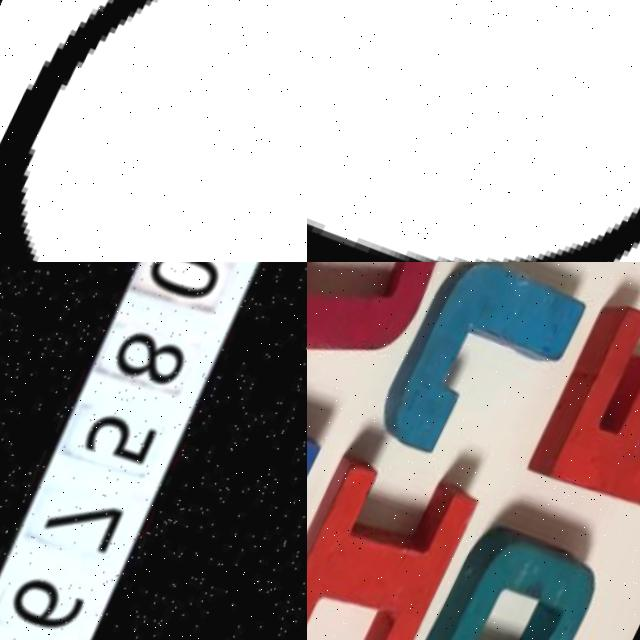0: (136, 262, 237, 319)
5: (76, 408, 177, 485)
6: (4, 569, 111, 640)
7: (37, 485, 147, 571)
8: (101, 322, 209, 406)
D: (411, 517, 623, 640)
E: (535, 299, 640, 519)
I: (307, 445, 498, 640)
J: (374, 262, 603, 488)
O: (307, 262, 495, 385)
